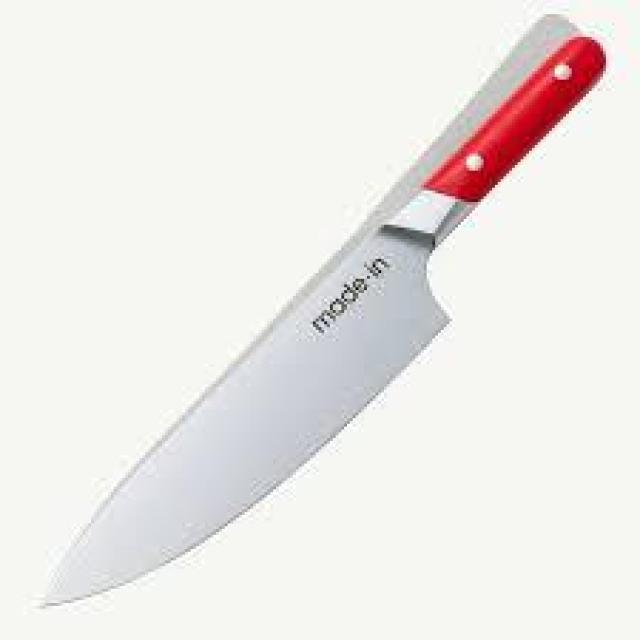Knife: (0, 6, 620, 619)
